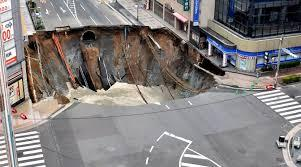Pothole: (15, 21, 223, 111)
